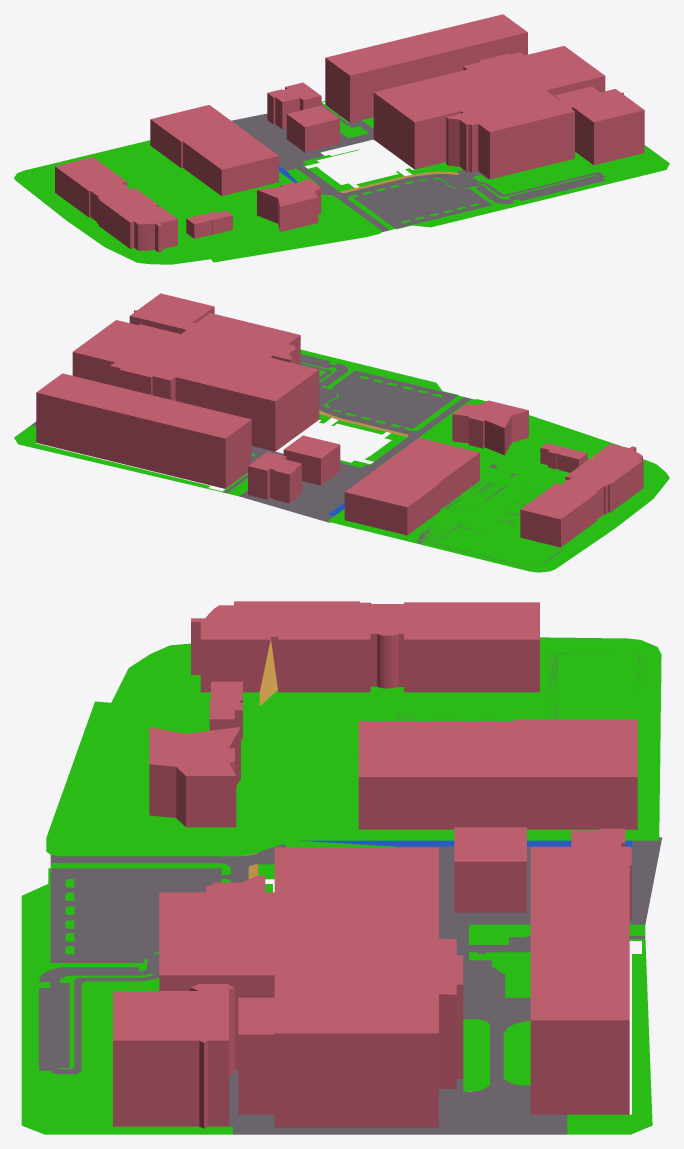
Rendered from GroundPlane.fbx.
The picture shows the model from 3 angles, top to bottom: view 1: azimuth 30°, elevation 25°; view 2: azimuth 150°, elevation 25°; view 3: azimuth 270°, elevation 25°; orthographic projection. The views are drawn at different scales.
Parts seen in each view (by area): view 1: Grass, Building3A, Building6, Roads, Building1, Building11, Building5, Building10A, Building10B, Building8, Building18, Building17 (+1 smaller); view 2: Grass, Building3A, Building6, Roads, Building11, Building10B, Building1, Building8, Building10A, Building17, Building5, Building18 (+1 smaller); view 3: Grass, Building3A, Roads, Building11, Building6, Building5, Building10B, Building10A, Building1, Building8, Building18, Building4 (+4 smaller).
Part boxes in pixels (box(x1,y1,x2,y2)): Grass: box(14, 101, 669, 264); Building3A: box(373, 46, 605, 169); Building6: box(325, 14, 527, 122); Roads: box(231, 104, 605, 231); Building1: box(446, 90, 574, 179); Building11: box(150, 105, 278, 195); Building5: box(561, 89, 644, 165); Building10A: box(98, 188, 177, 252); Building10B: box(55, 157, 128, 223); Building8: box(257, 178, 321, 232); Building18: box(286, 105, 339, 152); Building17: box(267, 82, 321, 129); Grass: box(14, 349, 669, 572); Building3A: box(72, 320, 319, 451); Building6: box(36, 373, 251, 488); Roads: box(31, 354, 563, 567); Building11: box(344, 438, 479, 535); Building10B: box(520, 478, 608, 547); Building1: box(180, 313, 300, 364); Building8: box(452, 400, 528, 455); Building10A: box(565, 443, 643, 512); Building17: box(248, 451, 301, 503); Building5: box(129, 293, 214, 333); Building18: box(283, 435, 340, 485); Grass: box(21, 637, 661, 1134); Building3A: box(274, 847, 463, 1127); Roads: box(39, 652, 662, 1134); Building11: box(358, 719, 637, 829); Building6: box(530, 846, 629, 1114); Building5: box(113, 984, 234, 1128); Building10B: box(359, 602, 539, 692); Building10A: box(191, 601, 376, 692); Building1: box(159, 875, 274, 1069); Building8: box(149, 727, 240, 827); Building18: box(454, 827, 526, 912); Building4: box(238, 997, 274, 1114).
Bounding box in the file's own units: 905 × 79.83 × 491.
